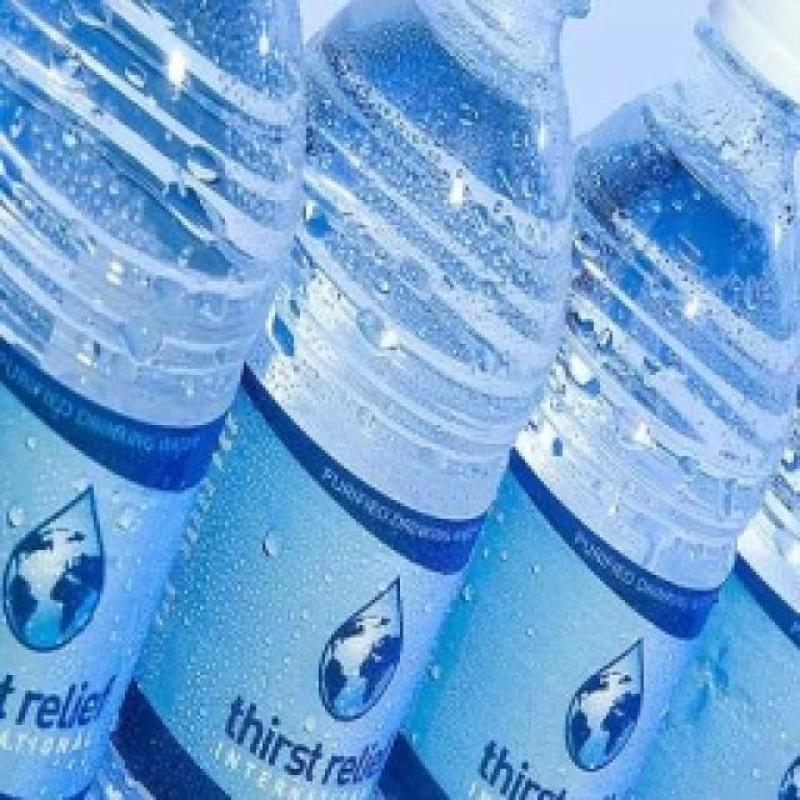botella: (90, 0, 590, 800), (369, 0, 800, 800), (0, 0, 302, 800), (627, 415, 800, 800)
